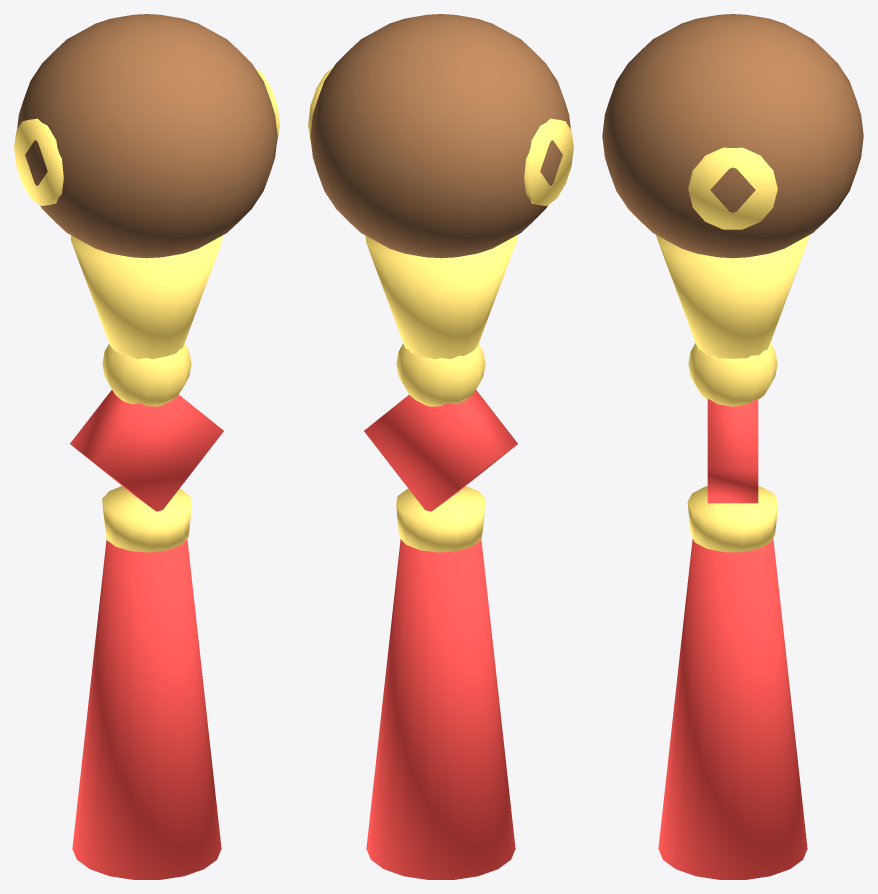
The model's file is hat_bo_de_mau.glb.
3 renders of one model, left to right at view 1: azimuth 30°, elevation 25°; view 2: azimuth 150°, elevation 25°; view 3: azimuth 270°, elevation 25°, orthographic.
Visible parts, largest first — view 1: hat_bo_de_mau; view 2: hat_bo_de_mau; view 3: hat_bo_de_mau.
Part boxes in pixels (box(x1,y1,x2,y2)): hat_bo_de_mau: box(14, 14, 279, 879); hat_bo_de_mau: box(308, 14, 573, 879); hat_bo_de_mau: box(602, 14, 863, 879).
Bounding box in the file's own units: 0.3224 × 1.12 × 0.3224.
